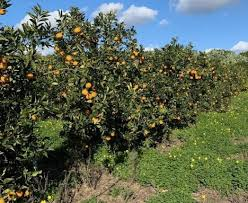orange: (55, 31, 64, 43), (72, 25, 81, 34), (80, 89, 89, 96), (83, 82, 91, 88)
